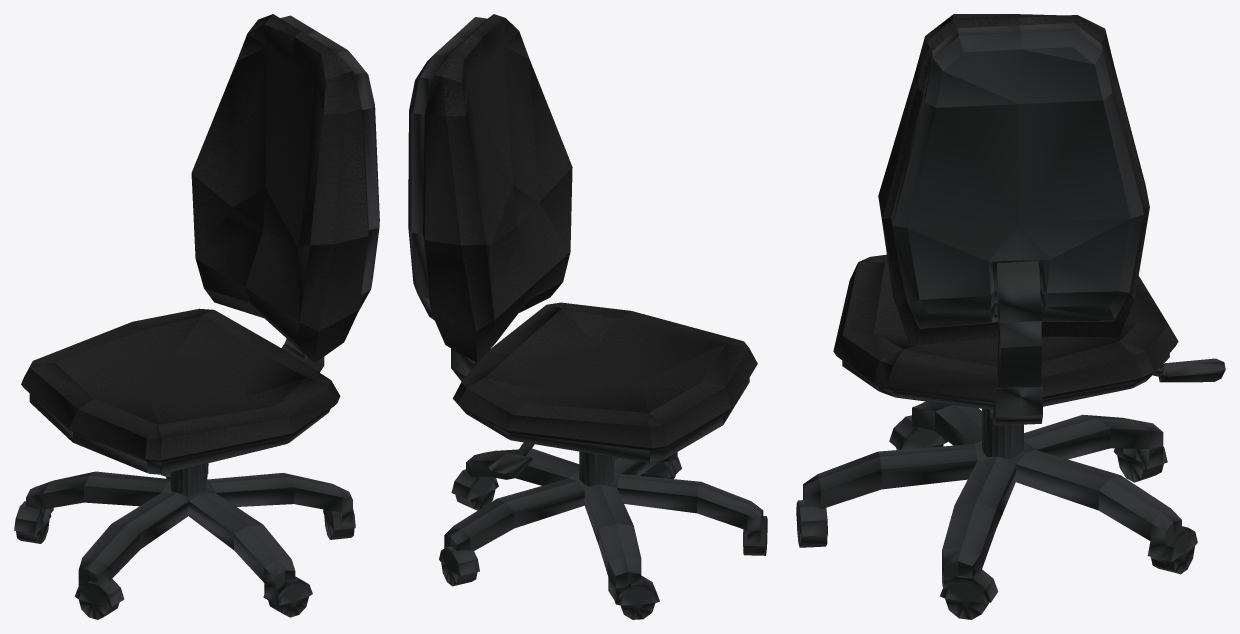
Rendered from OfficeChair.fbx.
3 views of the same model, side by side, from view 1: azimuth 30°, elevation 25°; view 2: azimuth 150°, elevation 25°; view 3: azimuth 270°, elevation 25° (orthographic). The views are drawn at different scales.
Visible parts, largest first — view 1: OfficeChair_Mesh_lambert4_0; view 2: OfficeChair_Mesh_lambert4_0; view 3: OfficeChair_Mesh_lambert4_0.
Boxes of the visible parts, <box> form: OfficeChair_Mesh_lambert4_0: <box>14,14,379,619</box>; OfficeChair_Mesh_lambert4_0: <box>408,14,767,619</box>; OfficeChair_Mesh_lambert4_0: <box>796,14,1225,619</box>.
Bounding box in the file's own units: 86.53 × 130 × 82.88.
